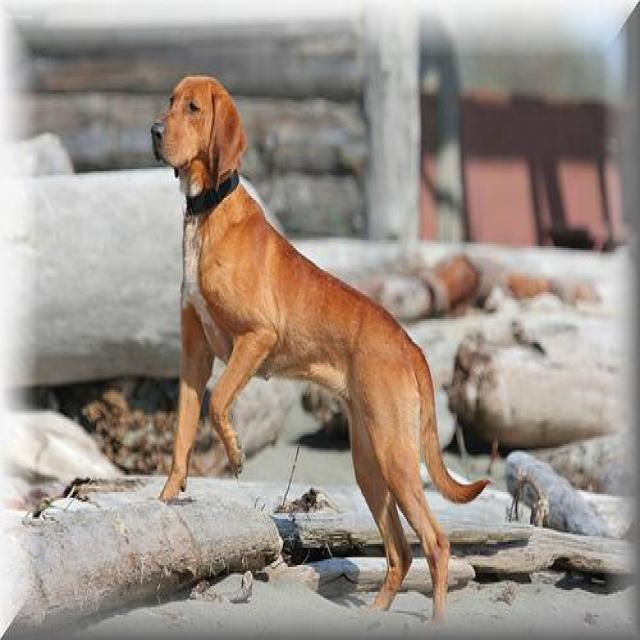good: (146, 66, 467, 622)
